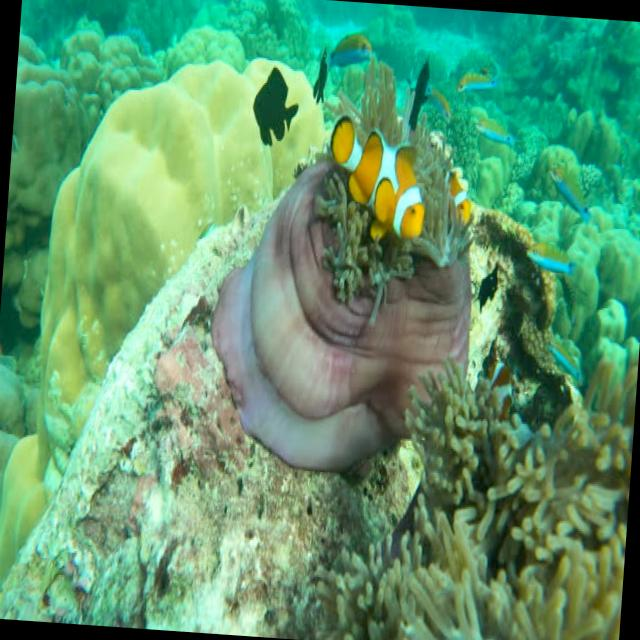ClownFish: (324, 105, 426, 250), (444, 156, 474, 222)
